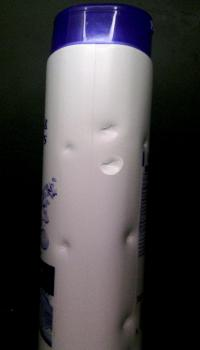dent_unacceptable: (89, 118, 130, 179), (112, 216, 140, 250), (48, 236, 81, 264), (110, 304, 139, 334), (54, 140, 82, 160)
